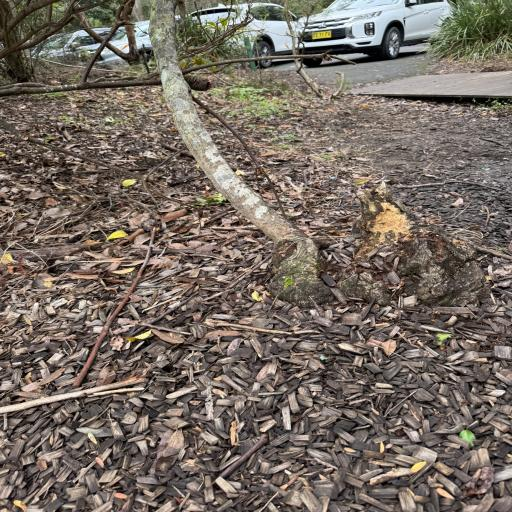tree root: (150, 0, 334, 306), (335, 183, 488, 306)
